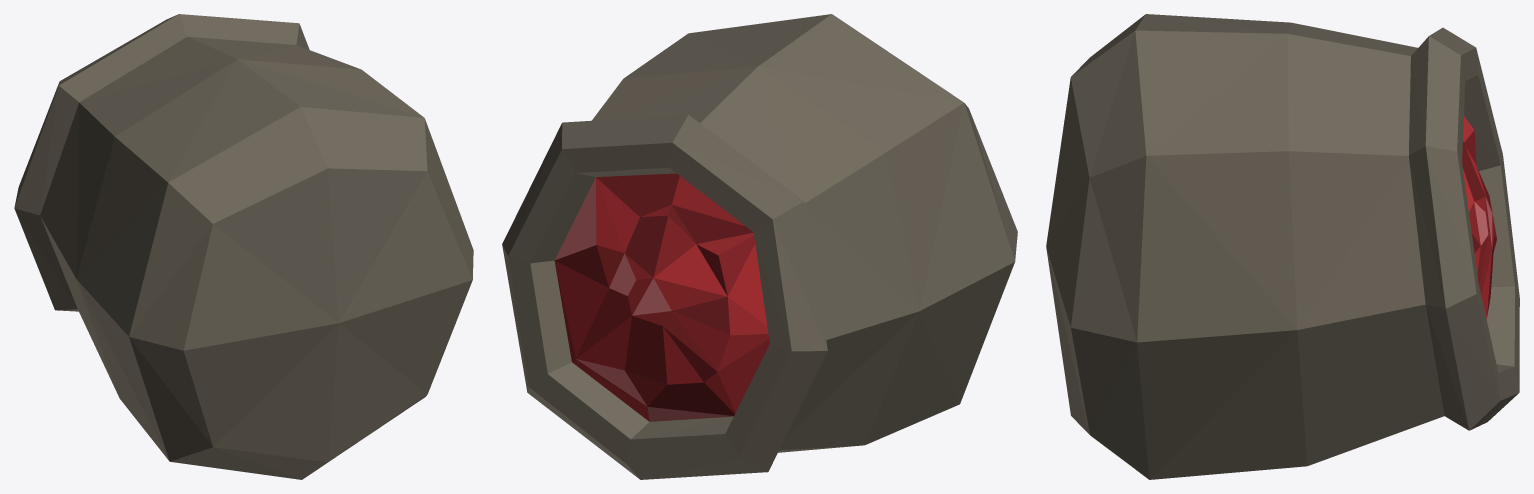
File: Sack 03 Tomatoes.FBX
3 views of the same model, side by side, from view 1: azimuth 30°, elevation 25°; view 2: azimuth 150°, elevation 25°; view 3: azimuth 270°, elevation 25° (orthographic). The views are drawn at different scales.
Visible parts, largest first — view 1: Sack 03 Tomatoes; view 2: Sack 03 Tomatoes; view 3: Sack 03 Tomatoes.
Boxes of the visible parts, x1,y1,x2,y2 form: Sack 03 Tomatoes: (14, 14, 473, 479); Sack 03 Tomatoes: (502, 14, 1017, 479); Sack 03 Tomatoes: (1046, 14, 1519, 479).
Size of the model in its own units: 62.93 by 65.04 by 65.34.
